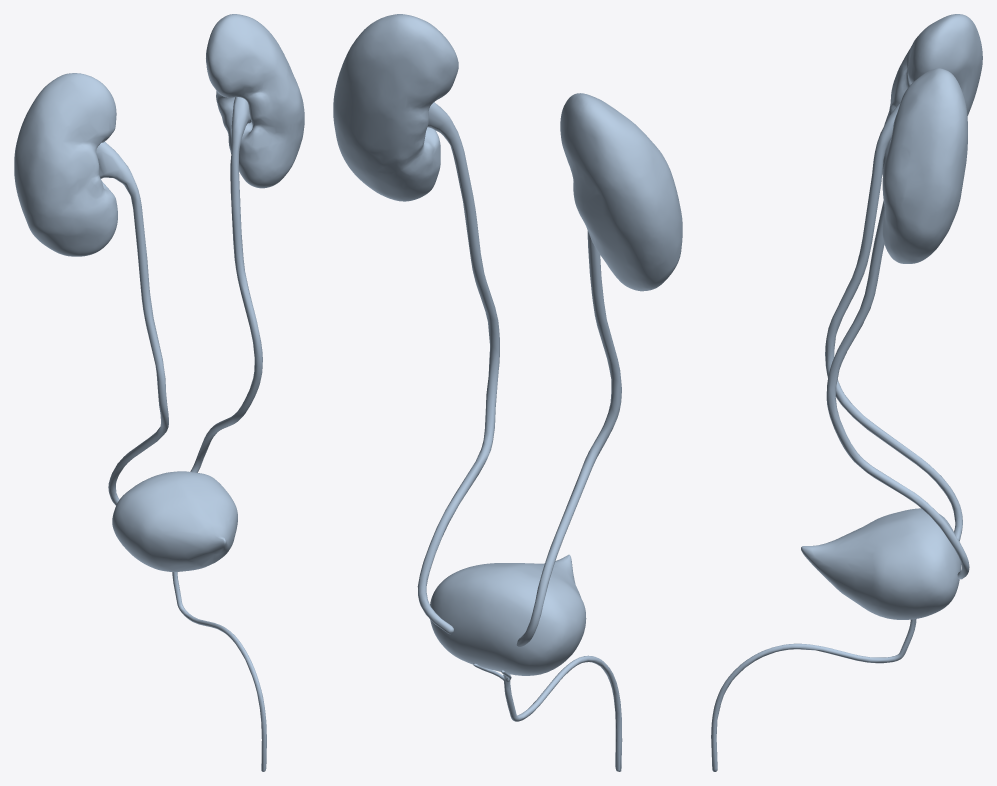
The model's file is urinary.glb.
3 views of the same model, side by side, from view 1: azimuth 30°, elevation 25°; view 2: azimuth 150°, elevation 25°; view 3: azimuth 270°, elevation 25° (orthographic). The views are drawn at different scales.
Visible parts, largest first — view 1: FMA7204, FMA7205, FMA15900, FMA15571, FMA15572, FMA19667; view 2: FMA7205, FMA7204, FMA15900, FMA15572, FMA15571, FMA19667; view 3: FMA7205, FMA15900, FMA7204, FMA15571, FMA15572, FMA19667.
Part boxes in pixels (x1,y1,x2,y2): FMA7204: (14,73,117,256); FMA7205: (206,14,304,188); FMA15900: (112,471,237,572); FMA15571: (96,141,168,505); FMA15572: (190,97,262,472); FMA19667: (172,572,266,771); FMA7205: (333,14,458,201); FMA7204: (560,93,682,291); FMA15900: (430,554,586,675); FMA15572: (417,102,499,634); FMA15571: (516,231,621,646); FMA19667: (473,655,622,771); FMA7205: (882,68,967,263); FMA15900: (801,508,961,619); FMA7204: (882,14,982,176); FMA15571: (825,102,962,541); FMA15572: (826,201,969,579); FMA19667: (711,619,916,771).
Size of the model in its own units: 0.1806 by 0.4205 by 0.1402.
